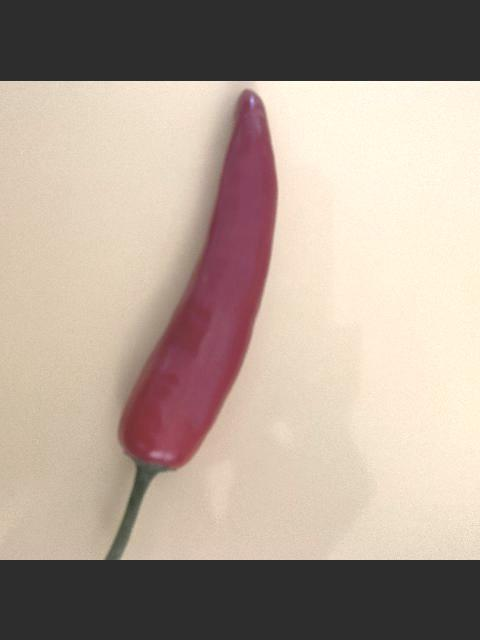chilli: (102, 80, 280, 560)
